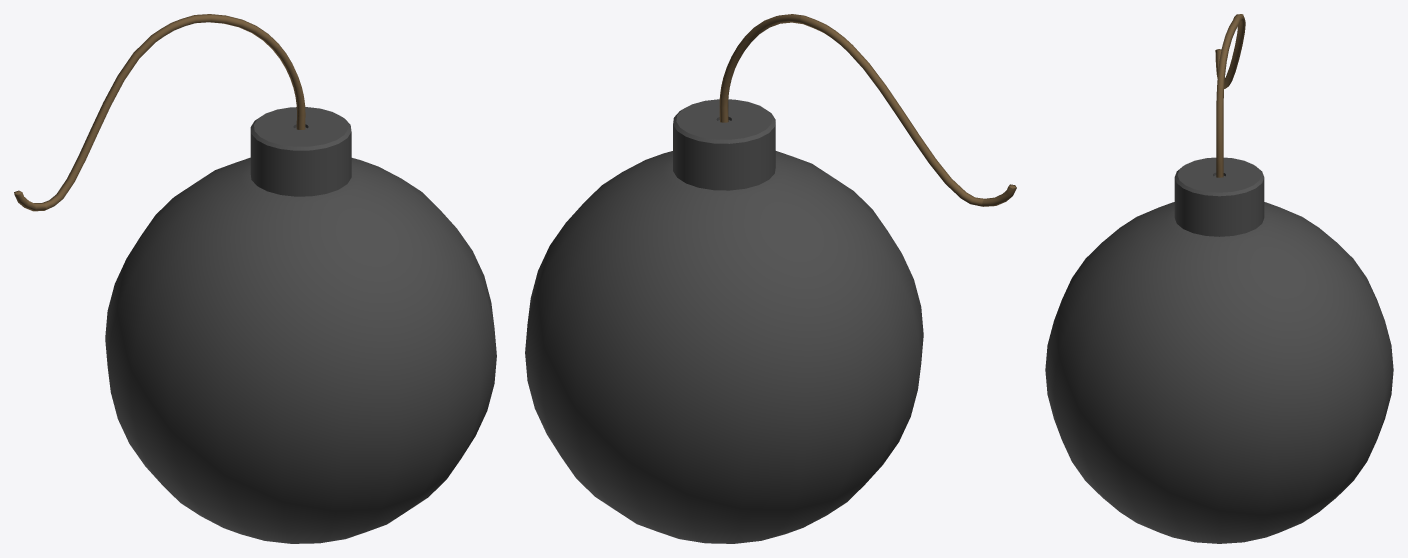
The model's file is Bomb.fbx.
3 renders of one model, left to right at view 1: azimuth 30°, elevation 25°; view 2: azimuth 150°, elevation 25°; view 3: azimuth 270°, elevation 25°, orthographic. The views are drawn at different scales.
Parts seen in each view (by area): view 1: Bomb, Fuse; view 2: Bomb, Fuse; view 3: Bomb, Fuse.
Boxes of the visible parts, <box> form: Bomb: <box>105,107,496,543</box>; Fuse: <box>14,14,305,211</box>; Bomb: <box>525,99,923,543</box>; Fuse: <box>719,14,1016,206</box>; Bomb: <box>1045,157,1393,543</box>; Fuse: <box>1215,14,1245,177</box>.
Size of the model in its own units: 0.5365 by 0.5904 by 0.4.
2 materials, 1 textured.
